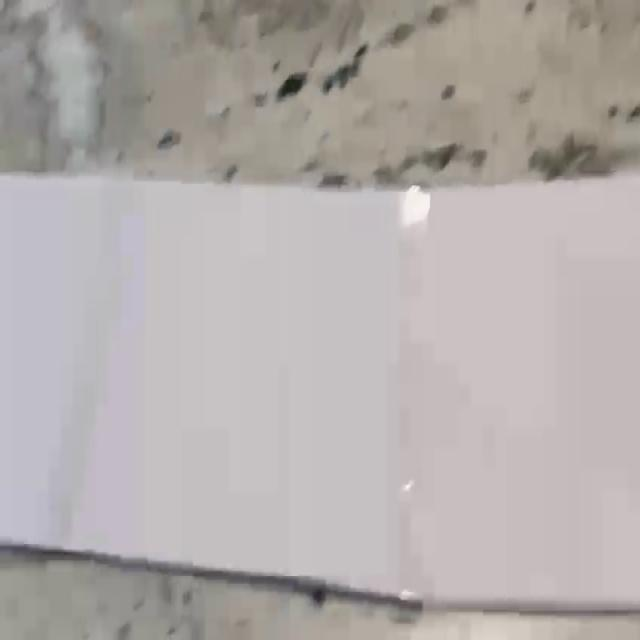road: (0, 173, 640, 615)
